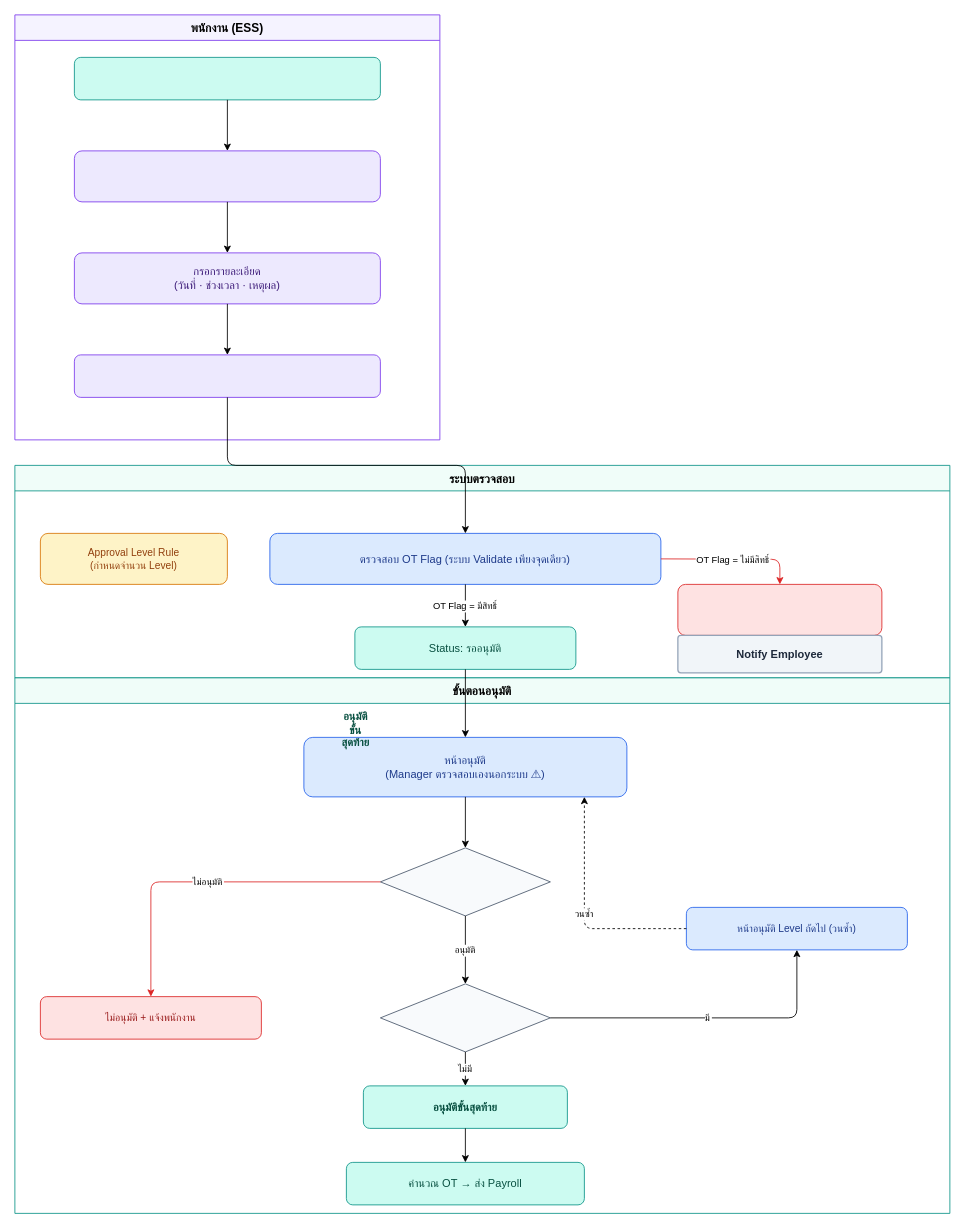
This 965x1228 diagram has some shape labels left out. Here are the shapes that lost their labels. From the top down, the box of each, then its label:
(74, 57, 380, 100): เปิดเมนู OT Request
(74, 150, 380, 202): เลือกประเภท OT (OTปกติ/OTช่วง break)
(74, 354, 380, 397): Confirm + Submit
(677, 584, 882, 635): บล็อก: ไม่มีสิทธิ์ขอ OT
(380, 847, 550, 916): อนุมัติหรือไม่?
(380, 983, 550, 1052): มี Level ถัดไปไหม?
